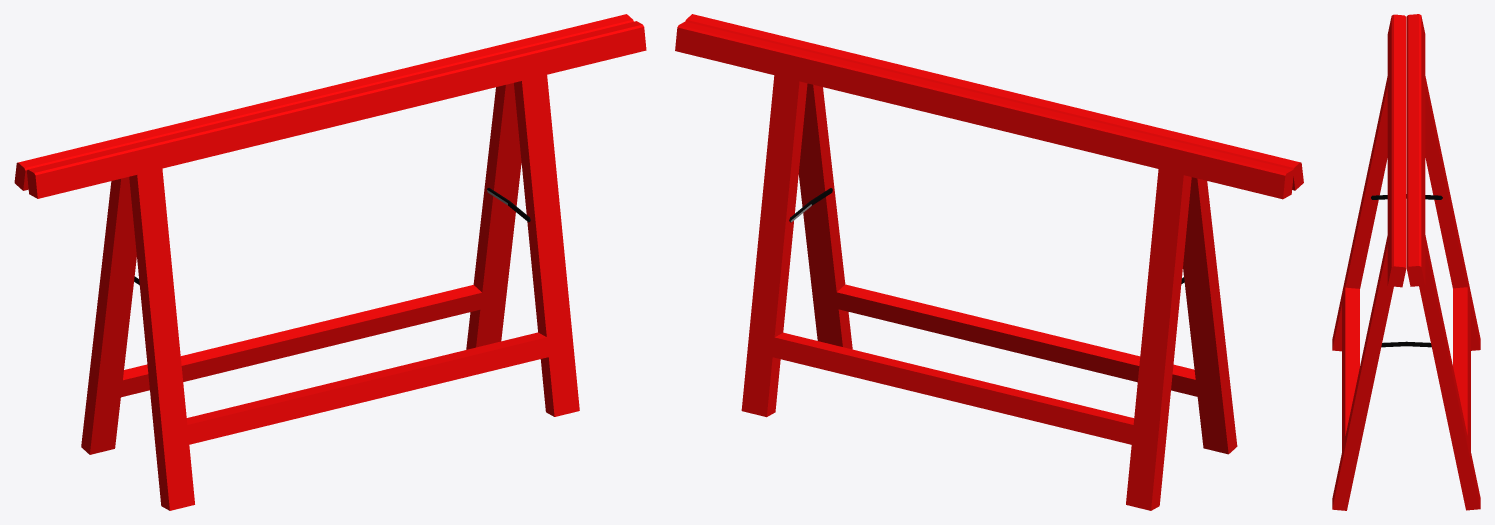
The model's file is treteaux.FBX.
3 renders of one model, left to right at view 1: azimuth 30°, elevation 25°; view 2: azimuth 150°, elevation 25°; view 3: azimuth 270°, elevation 25°, orthographic. The views are drawn at different scales.
Visible parts, largest first — view 1: treteaux; view 2: treteaux; view 3: treteaux.
Part boxes in pixels (bbox=[...]): treteaux: bbox=[14, 14, 646, 510]; treteaux: bbox=[675, 14, 1303, 510]; treteaux: bbox=[1332, 14, 1480, 510].
Bounding box in the file's own units: 1.39 × 0.7353 × 0.3465.
